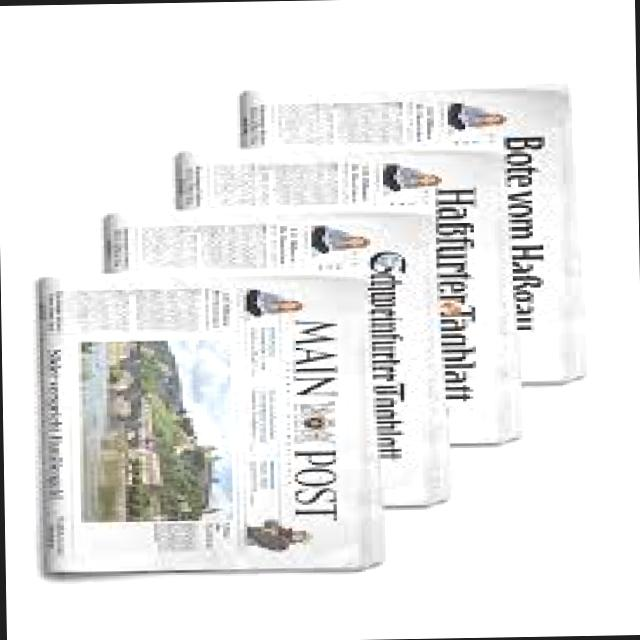paper: (32, 84, 570, 587)
